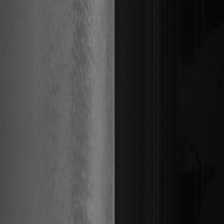silk_spot: (67, 32, 101, 161)
